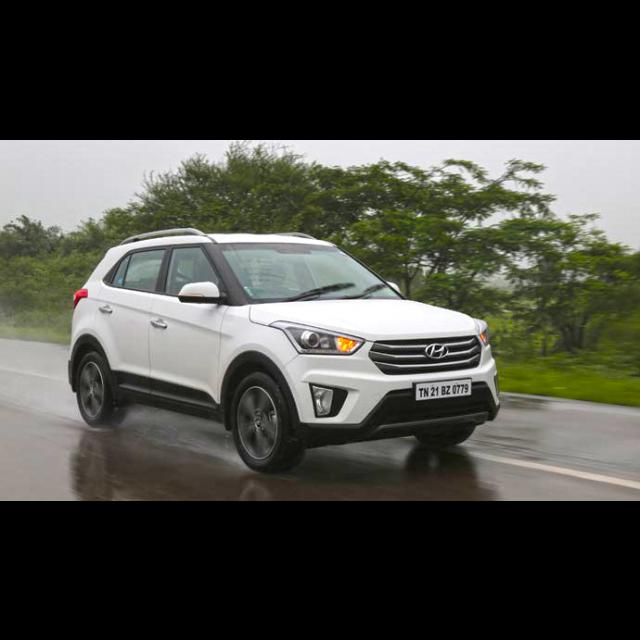vehicles: (67, 222, 499, 476)
